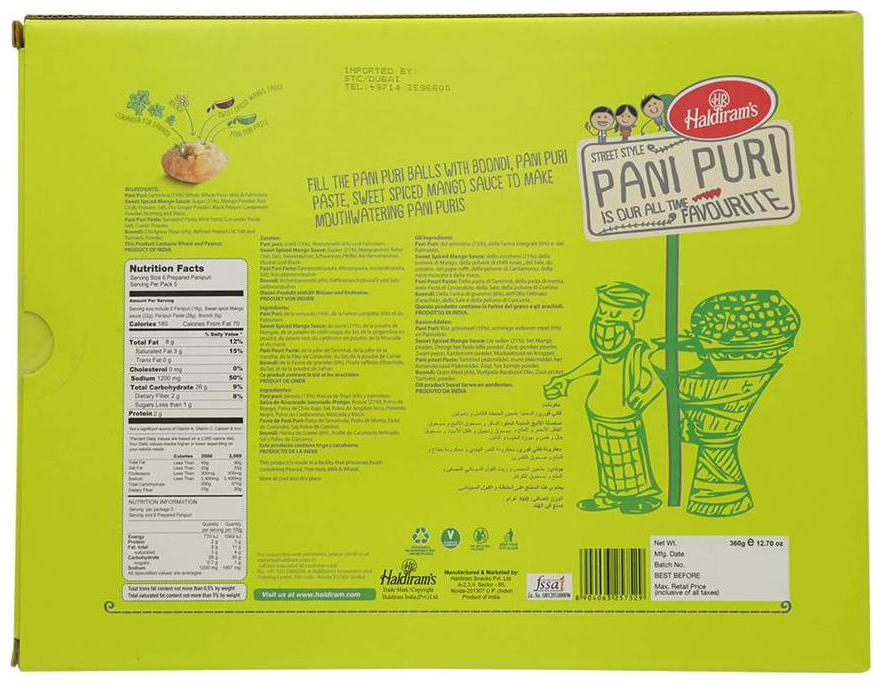fssai: (533, 576, 566, 592)
